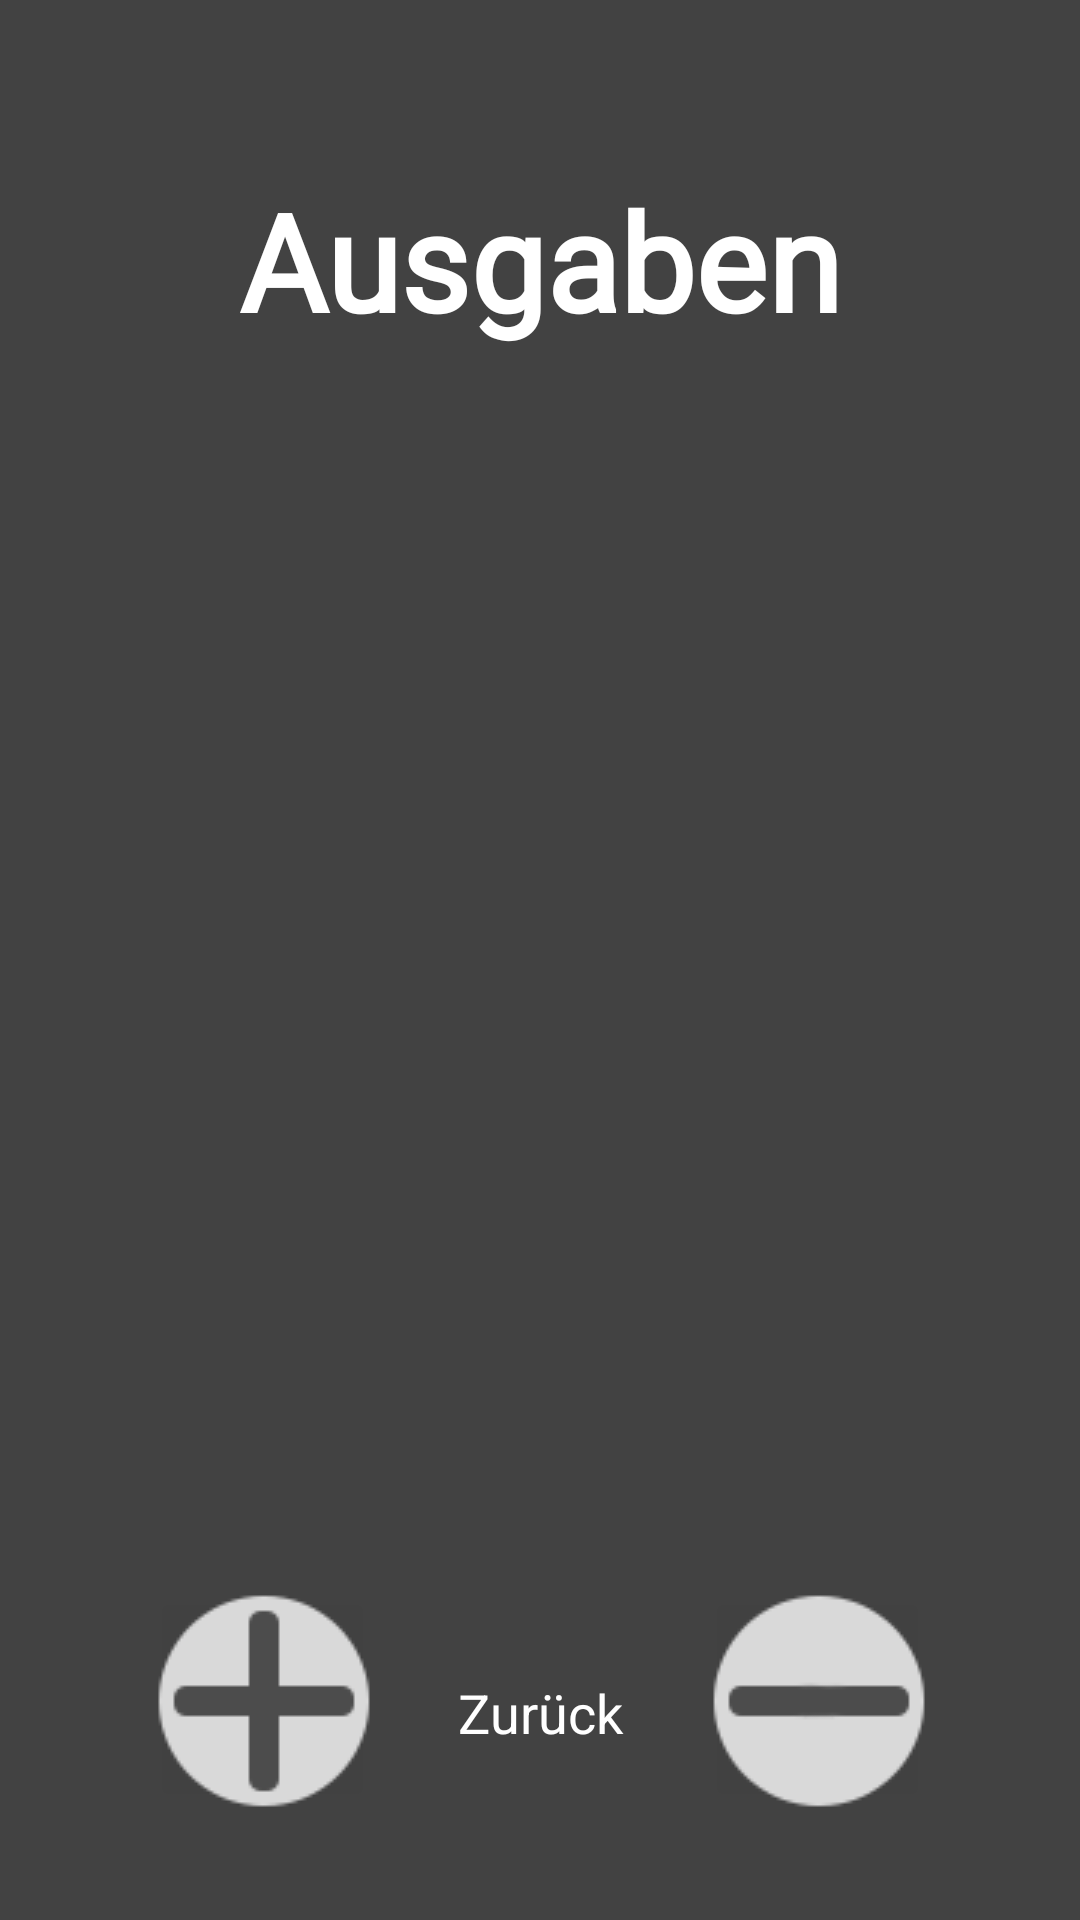

Named icons in this screenshot (1080px×1920px) and their bounding boxes, (x1, y1, x2, y2):
minus: (713, 1595, 925, 1807)
plus: (158, 1595, 370, 1807)
